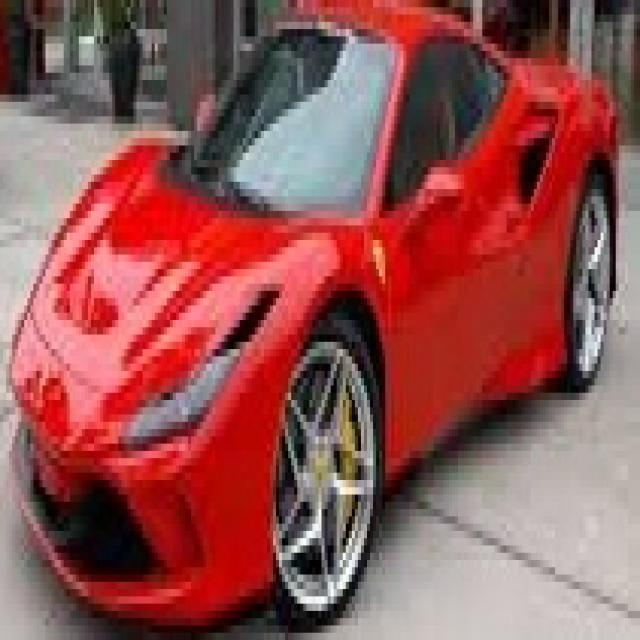red: (13, 0, 618, 640)
